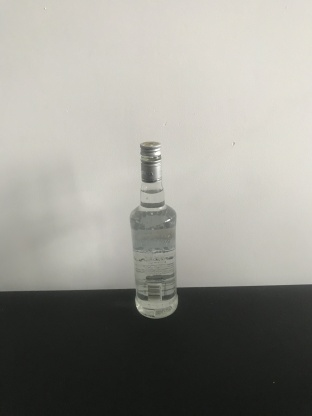nakretka: (139, 139, 162, 183)
